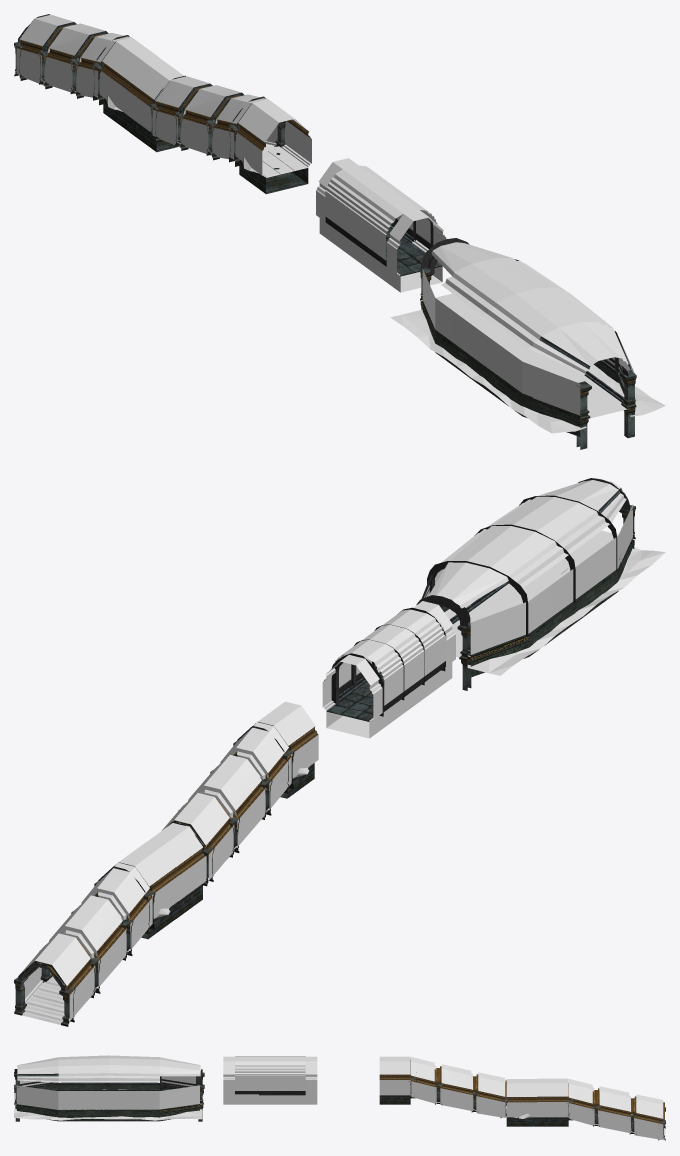
Rendered from tunnel.fbx.
3 views of the same model, one above another, from view 1: azimuth 30°, elevation 25°; view 2: azimuth 150°, elevation 25°; view 3: azimuth 270°, elevation 25° (orthographic). The views are drawn at different scales.
Visible parts, largest first — view 1: TUN.003, TUN, TUN.002, TUN.001, TUN.006, TUN.005, TUN.004, TUN.007; view 2: TUN.003, TUN.001, TUN, TUN.002, TUN.005, TUN.006, TUN.004, TUN.007; view 3: TUN.003, TUN, TUN.001, TUN.002, TUN.006, TUN.004, TUN.005.
Part boxes in pixels (<box>): TUN.003: <box>390,238,665,449</box>; TUN: <box>316,158,446,292</box>; TUN.002: <box>150,75,286,166</box>; TUN.001: <box>14,14,131,105</box>; TUN.006: <box>235,99,311,194</box>; TUN.005: <box>126,57,184,152</box>; TUN.004: <box>99,37,158,132</box>; TUN.007: <box>386,227,442,276</box>; TUN.003: <box>416,478,665,690</box>; TUN.001: <box>14,862,155,1026</box>; TUN: <box>322,601,455,738</box>; TUN.002: <box>162,722,294,886</box>; TUN.005: <box>146,823,206,919</box>; TUN.006: <box>257,701,318,798</box>; TUN.004: <box>118,842,179,939</box>; TUN.007: <box>326,671,384,721</box>; TUN.003: <box>14,1055,204,1121</box>; TUN: <box>223,1056,317,1104</box>; TUN.001: <box>566,1079,665,1140</box>; TUN.002: <box>408,1057,507,1118</box>; TUN.006: <box>379,1056,410,1104</box>; TUN.004: <box>537,1078,568,1126</box>; TUN.005: <box>506,1079,537,1126</box>.
Bounding box in the file's own units: 14610 × 16169 × 124798.
